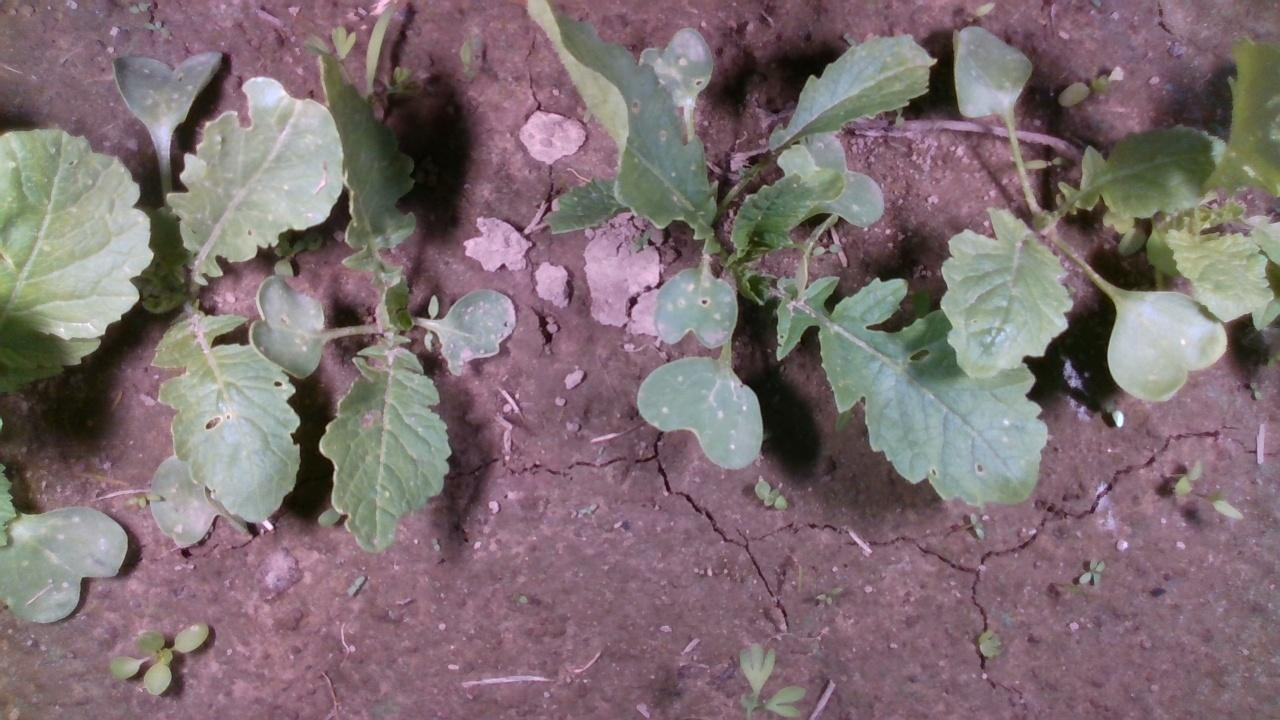weed: (1055, 69, 1111, 106), (1172, 458, 1201, 498), (753, 478, 788, 510), (1209, 496, 1248, 524), (453, 37, 477, 82), (976, 626, 1005, 661), (1078, 555, 1105, 587), (812, 585, 842, 606), (969, 509, 985, 541), (1248, 378, 1261, 402)
